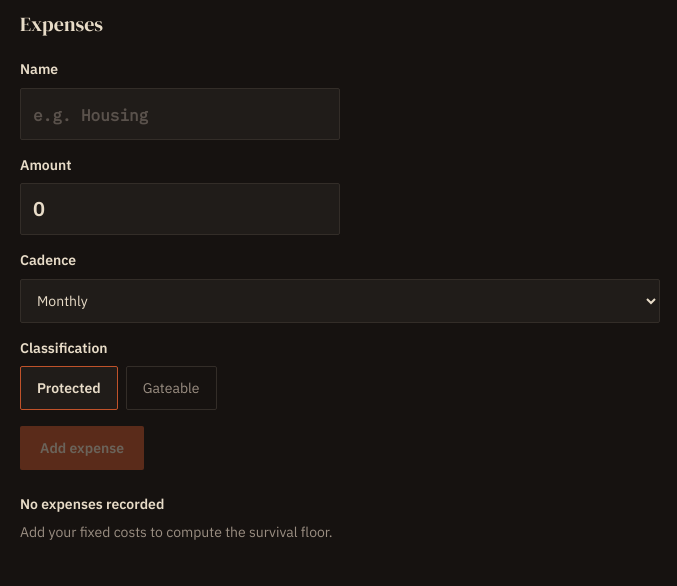
Test: ExpensesPage › EXP-07 advisory: "Add expense" button remains enabled after typing whey (C1 — no hard block)
This screenshot has width=677, height=586.
Type "whey protein" into the field labelled "Name" at (180, 114), box [20,88,340,140]
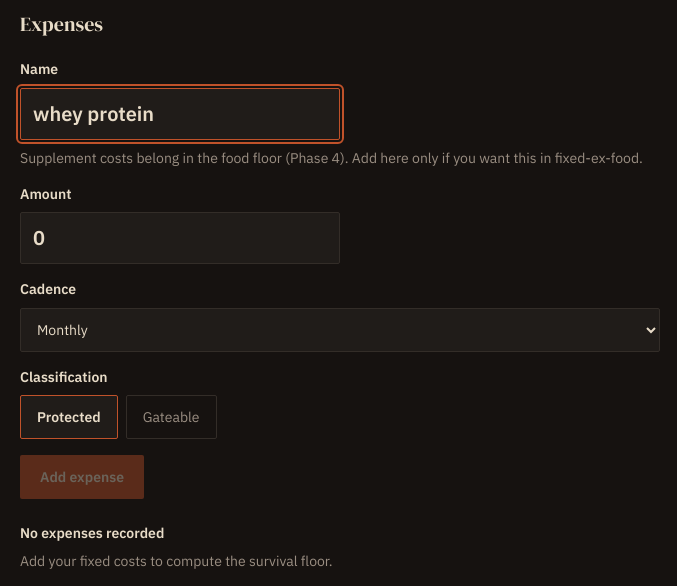
Note: Fill amount to satisfy the other canAdd condition
Replace the text in the number field labelled "Amount" with "50" at (180, 238), box [20,212,340,264]
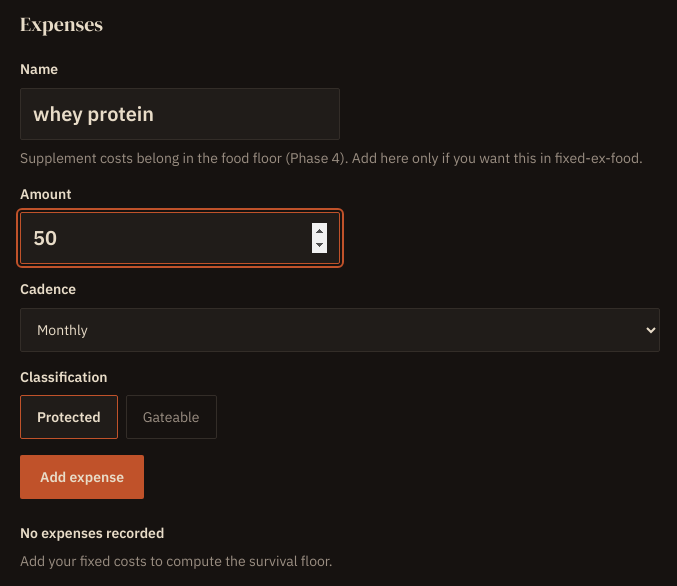
Expected: the button "Add expense" is enabled, [20,455,144,499]
